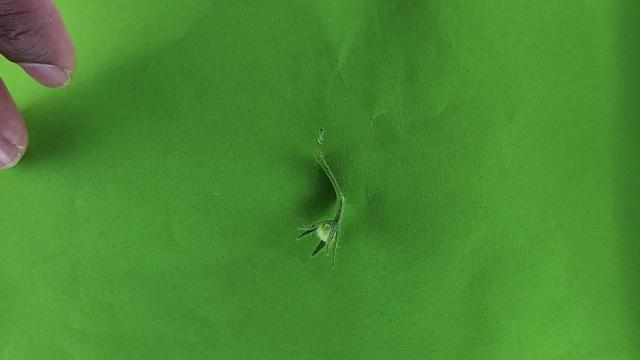Fruit Bud: (305, 219, 339, 255), (310, 221, 341, 255)
